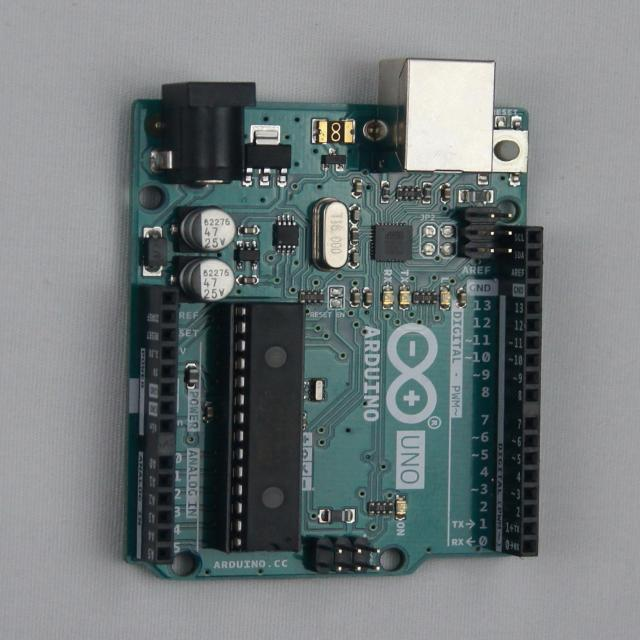Arduino Uno -Green-: (129, 60, 542, 578)
